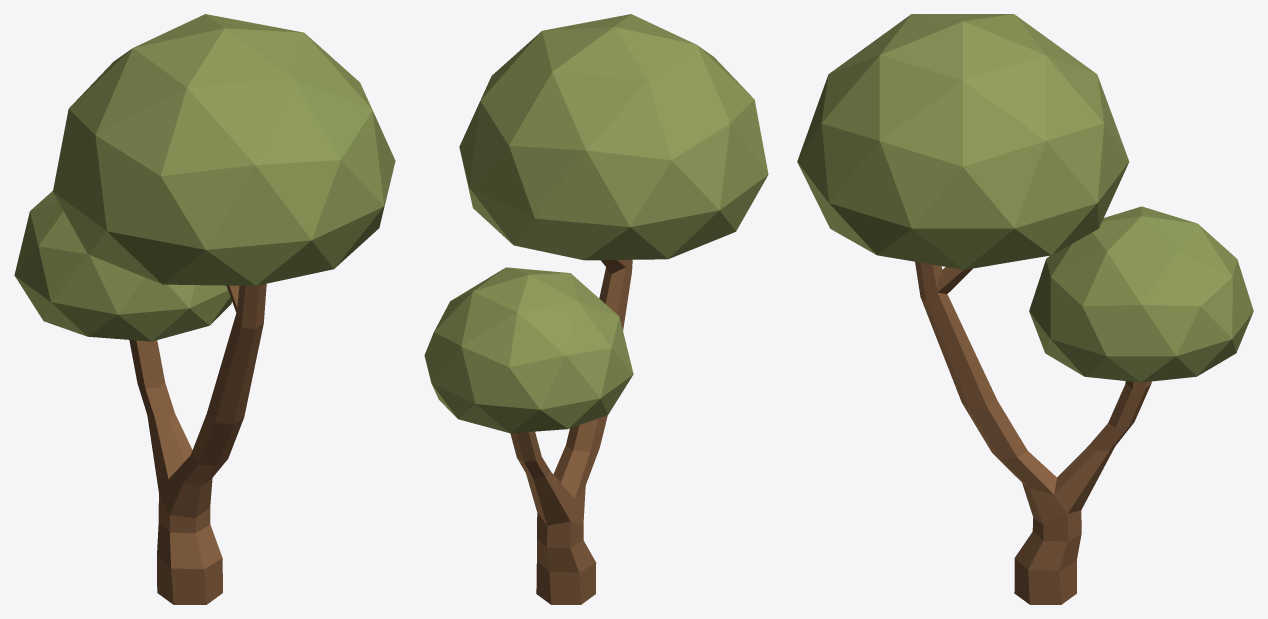
3 views of the same model, side by side, from view 1: azimuth 30°, elevation 25°; view 2: azimuth 150°, elevation 25°; view 3: azimuth 270°, elevation 25° (orthographic). The views are drawn at different scales.
Parts seen in each view (by area): view 1: Tree1; view 2: Tree1; view 3: Tree1.
Part boxes in pixels (bbox=[...]): Tree1: bbox=[14, 14, 395, 604]; Tree1: bbox=[424, 14, 768, 604]; Tree1: bbox=[797, 14, 1253, 604].
Size of the model in its own units: 2.07 by 4.1 by 2.99.
